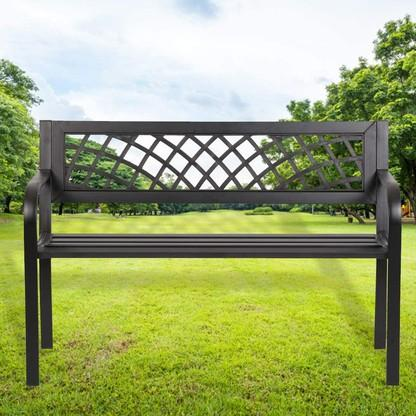obstacle: (12, 113, 405, 395)
